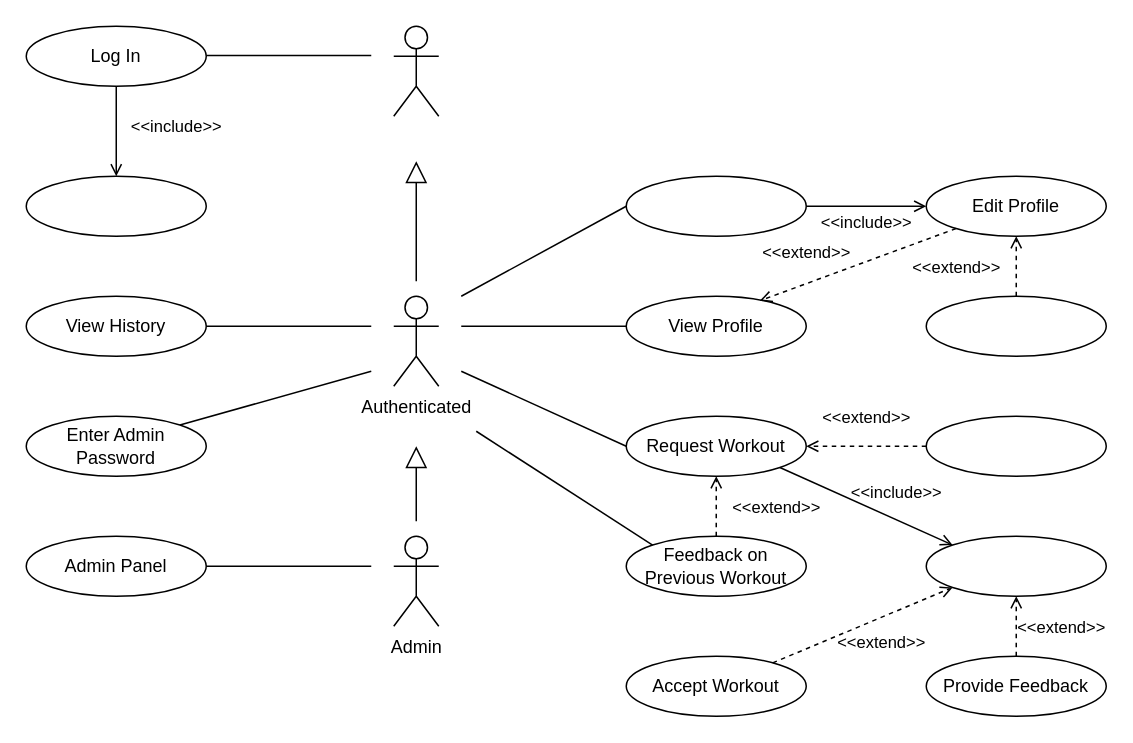
This 1133x743 diagram has some shape labels left out. The centre of each missing label's shape, as x and y in pixels:
"Authenticate" goes at point (115, 205).
"Create Profile" goes at point (715, 205).
"Delete Profile" goes at point (1015, 325).
"Provide Daily Parameters" goes at point (1015, 445).
"Review Workout" goes at point (1015, 565).
"User" goes at point (415, 70).
